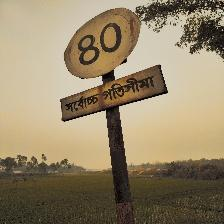Speed-limit: (60, 6, 166, 123)
